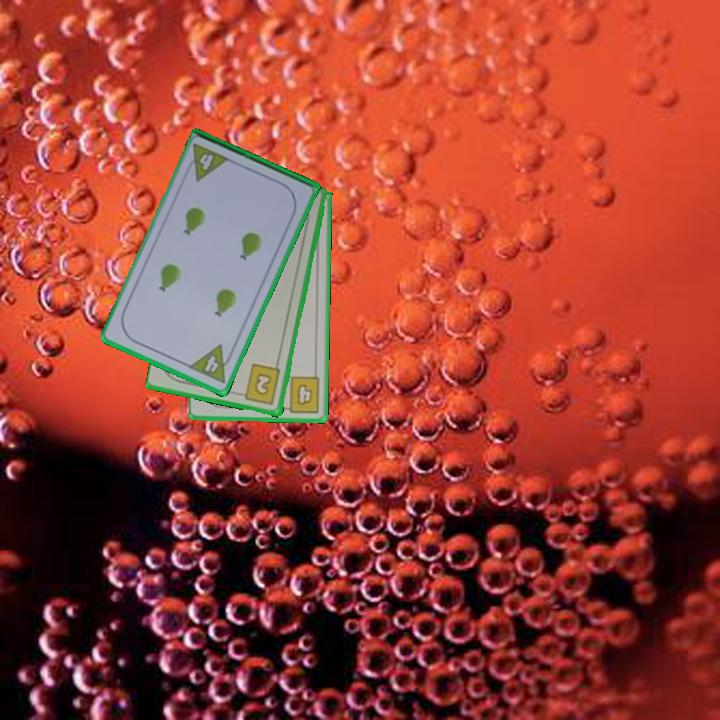2b: (236, 361, 284, 408)
4b: (279, 373, 323, 415)
4p: (185, 341, 237, 386), (181, 141, 233, 184)
